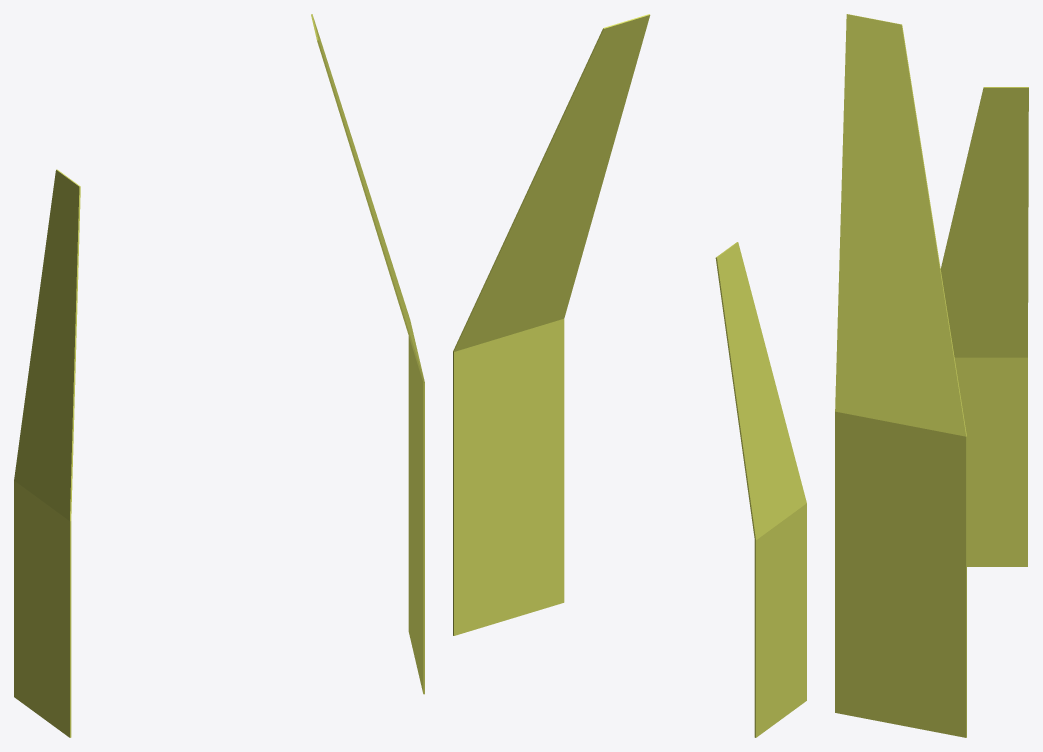
The model's file is Garass2.fbx.
3 renders of one model, left to right at view 1: azimuth 30°, elevation 25°; view 2: azimuth 150°, elevation 25°; view 3: azimuth 270°, elevation 25°, orthographic. The views are drawn at different scales.
Parts seen in each view (by area): view 1: Plane.002; view 2: Plane.002; view 3: Plane.002.
Part boxes in pixels (x1,y1,x2,y2): Plane.002: (14,14,424,737); Plane.002: (453,14,806,737); Plane.002: (835,14,1028,737).
Bounding box in the file's own units: 32.81 × 57.99 × 15.64.
